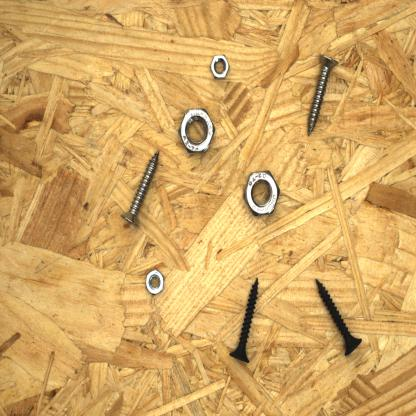screw: (312, 276, 364, 359), (118, 147, 162, 230), (306, 49, 341, 139), (228, 274, 261, 365)
